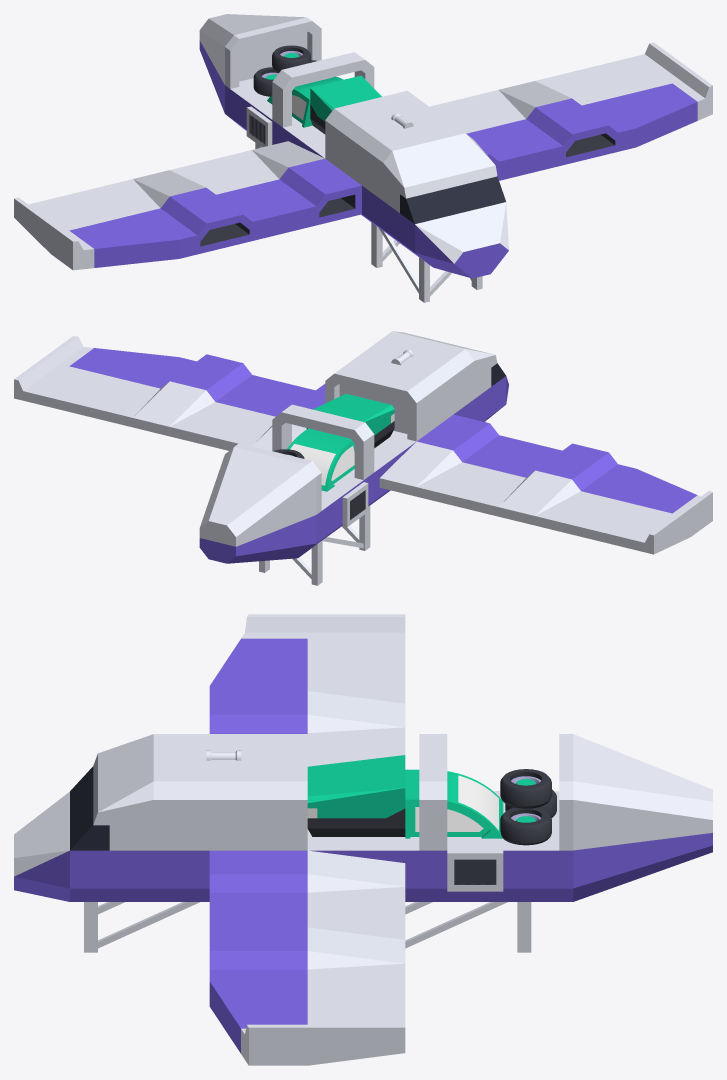
Rendered from spaceship3.obj.
3 views of the same model, one above another, from view 1: azimuth 30°, elevation 25°; view 2: azimuth 150°, elevation 25°; view 3: azimuth 270°, elevation 25° (orthographic). The views are drawn at different scales.
Parts seen in each view (by area): view 1: wing_slantWinglet, wing_engineMiddle, hull_cockpitNoseLow, wing_engine, hull_cargoUpper, hull_body, hull_tail, body_frontLarge, gear_full, wheel_classic, body_topRound, panel_ventSmall; view 2: wing_engineMiddle, wing_slantWinglet, wing_engine, hull_tail, hull_cargoUpper, hull_body, body_topRound, hull_cockpitNoseLow, body_frontLarge, gear_full, panel_ventSmall; view 3: wing_slantWinglet, wing_engineMiddle, hull_body, hull_cockpitNoseLow, hull_cargoUpper, hull_tail, wing_engine, body_frontLarge, body_topRound, wheel_classic, gear_full, panel_ventSmall.
Part boxes in pixels (<box>): wing_slantWinglet: <box>14,42,712,270</box>; wing_engineMiddle: <box>106,74,636,258</box>; hull_cockpitNoseLow: <box>383,133,508,278</box>; wing_engine: <box>197,96,544,236</box>; hull_cargoUpper: <box>225,17,412,161</box>; hull_body: <box>330,94,464,242</box>; hull_tail: <box>199,14,307,113</box>; body_frontLarge: <box>310,75,381,134</box>; gear_full: <box>255,143,482,302</box>; wheel_classic: <box>253,45,316,96</box>; body_topRound: <box>267,76,343,127</box>; panel_ventSmall: <box>246,106,272,147</box>; wing_engineMiddle: <box>105,354,635,531</box>; wing_slantWinglet: <box>14,336,712,554</box>; wing_engine: <box>196,379,544,509</box>; hull_tail: <box>199,447,316,563</box>; hull_cargoUpper: <box>234,370,421,556</box>; hull_body: <box>339,331,474,437</box>; body_topRound: <box>287,428,354,491</box>; hull_cockpitNoseLow: <box>394,331,508,421</box>; body_frontLarge: <box>306,393,394,448</box>; gear_full: <box>259,420,486,585</box>; panel_ventSmall: <box>342,482,368,526</box>; wing_slantWinglet: <box>209,614,405,1065</box>; wing_engineMiddle: <box>209,686,405,981</box>; hull_body: <box>153,734,293,901</box>; hull_cockpitNoseLow: <box>14,734,153,901</box>; hull_cargoUpper: <box>293,734,573,901</box>; hull_tail: <box>573,734,712,901</box>; wing_engine: <box>209,745,405,922</box>; body_frontLarge: <box>307,755,405,836</box>; body_topRound: <box>405,769,503,838</box>; wheel_classic: <box>500,769,556,845</box>; gear_full: <box>84,902,531,952</box>; panel_ventSmall: <box>447,791,503,891</box>.
Size of the model in its own units: 7 by 1.45 by 5.
